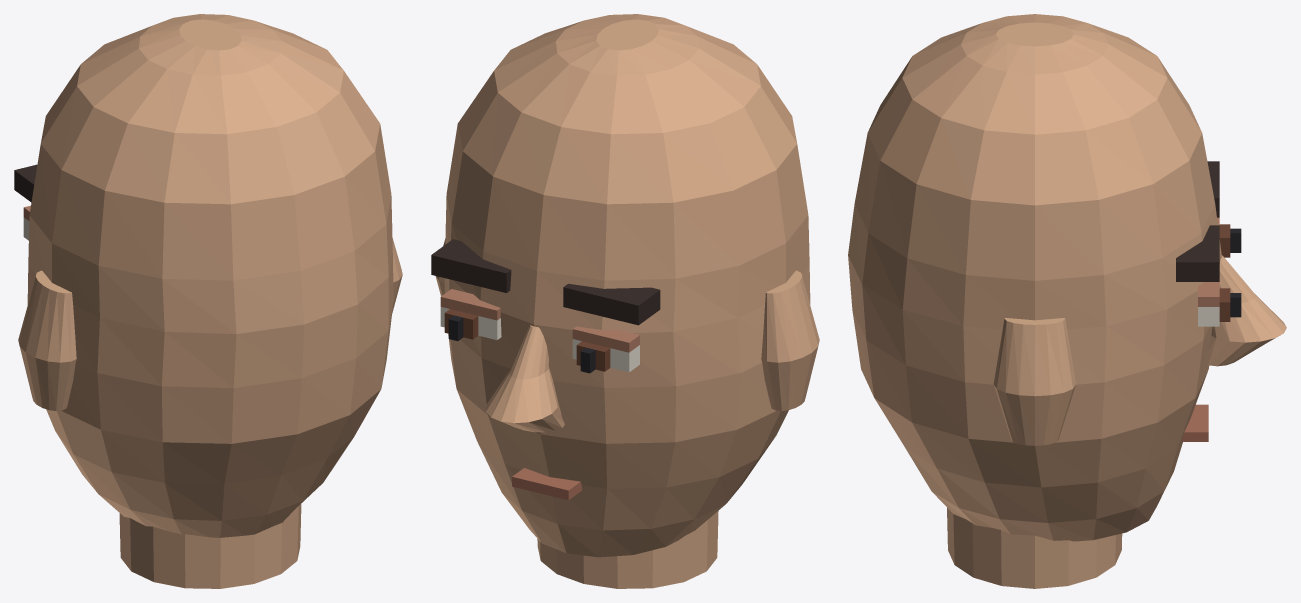
File: CHAR-066.glb
The picture shows the model from 3 angles, left to right: view 1: azimuth 30°, elevation 25°; view 2: azimuth 150°, elevation 25°; view 3: azimuth 270°, elevation 25°; orthographic projection.
Parts seen in each view (by area): view 1: 精细成年头部母版; view 2: 精细成年头部母版; view 3: 精细成年头部母版.
Part boxes in pixels (<box>): 精细成年头部母版: <box>14,14,402,588</box>; 精细成年头部母版: <box>431,14,819,588</box>; 精细成年头部母版: <box>848,14,1286,588</box>.
Size of the model in its own units: 0.196 by 0.262 by 0.202.
Materials: 7 (7 with a texture image).
